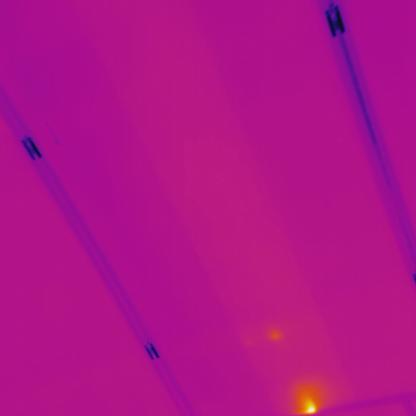hotspot: (293, 383, 329, 415)
